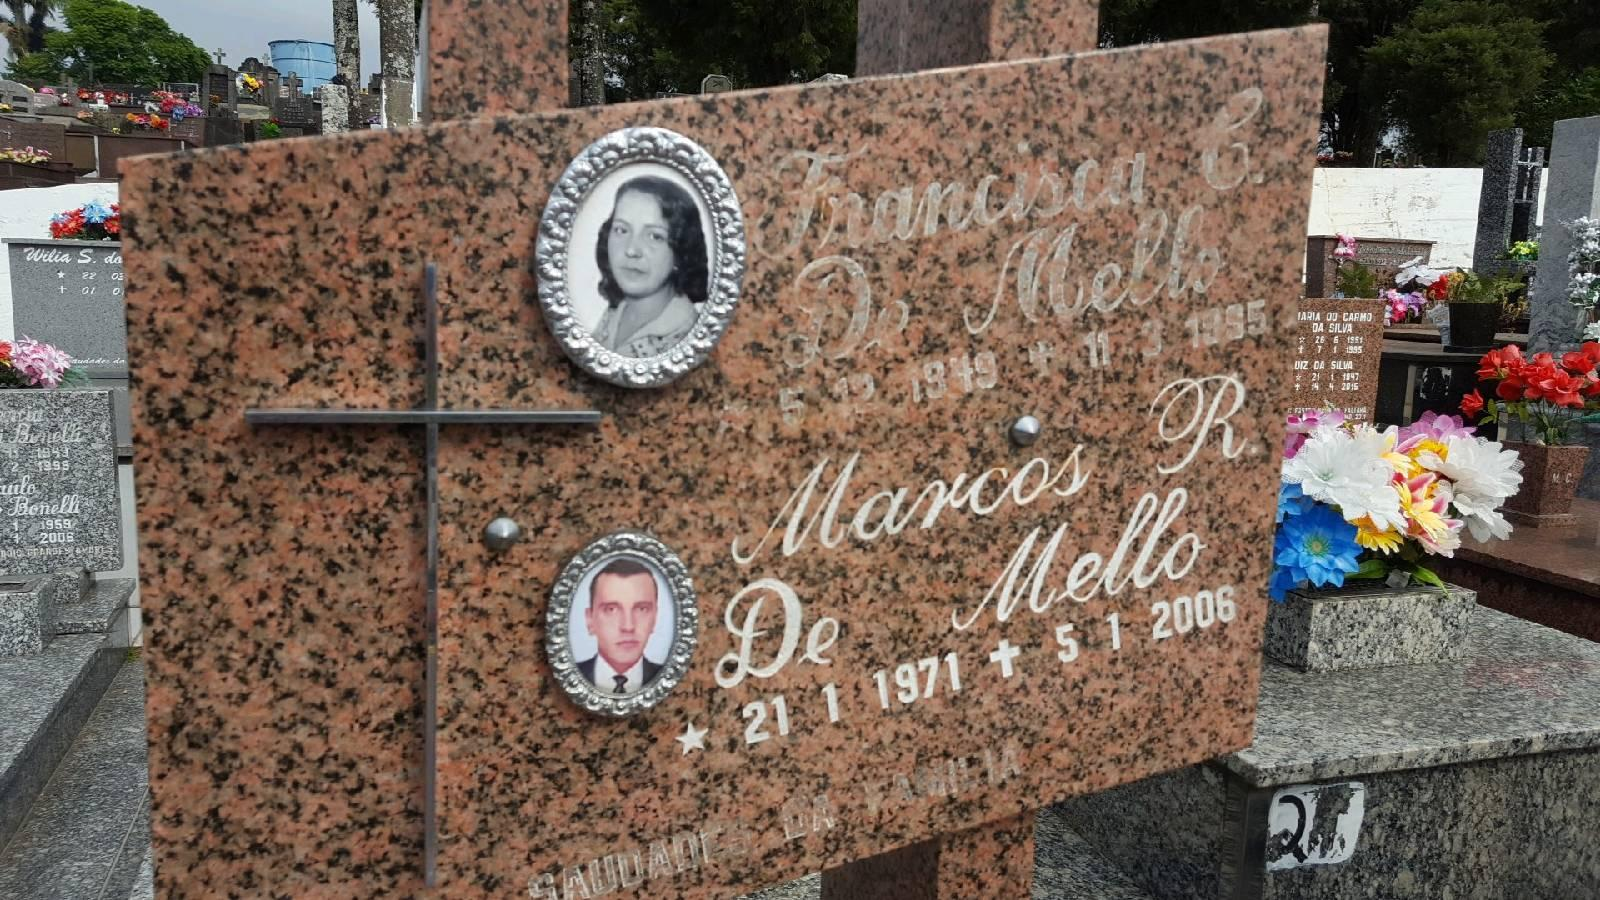plaque: (107, 18, 1343, 868)
